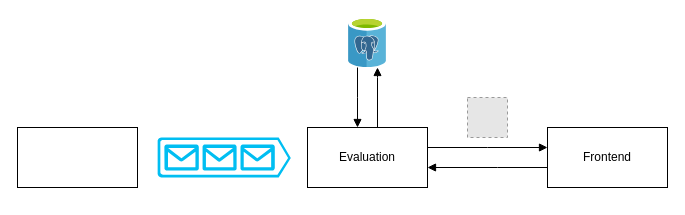
This 685x215 diagram has some shape labels left out. Grey dashed boxes stand in for pictures. Each missing label, with the centre of its shape:
"Generator" belongs at (77,157).
"RabbitMQ" belongs at (223,157).
